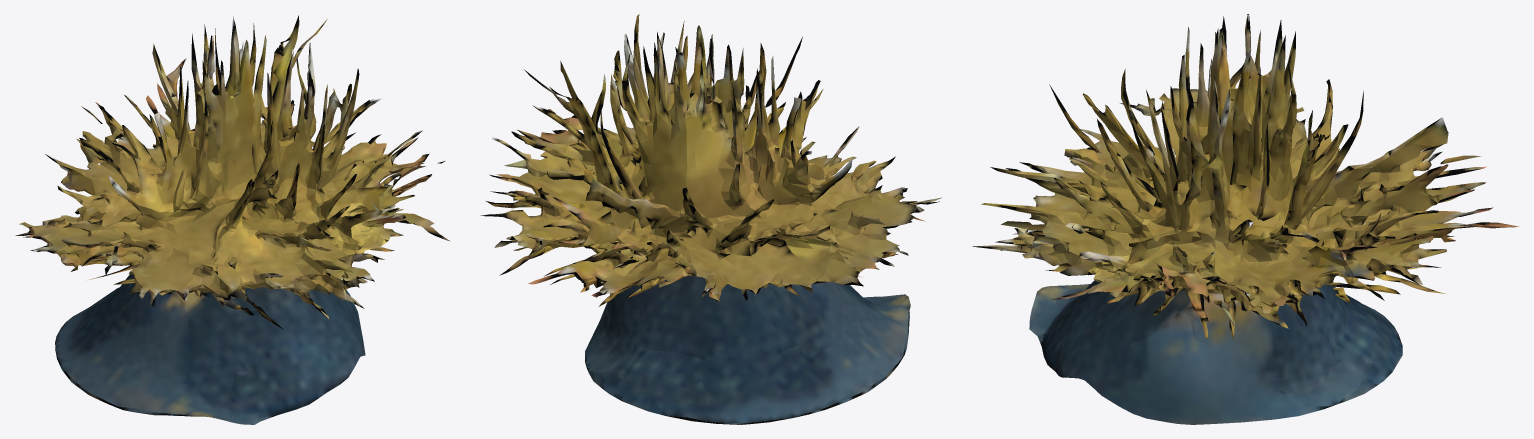
File: Plant5.glb
3 renders of one model, left to right at view 1: azimuth 30°, elevation 25°; view 2: azimuth 150°, elevation 25°; view 3: azimuth 270°, elevation 25°, orthographic. The views are drawn at different scales.
Parts seen in each view (by area): view 1: model.011_LOD0; view 2: model.011_LOD0; view 3: model.011_LOD0.
Boxes of the visible parts, left/top/right/bottom form: model.011_LOD0: left=15, top=15, right=450, bottom=424; model.011_LOD0: left=480, top=14, right=941, bottom=424; model.011_LOD0: left=972, top=14, right=1518, bottom=424.
Size of what is drawn, in the model's own units: 0.4316 by 0.3221 by 0.46.
1 material, 1 textured.
